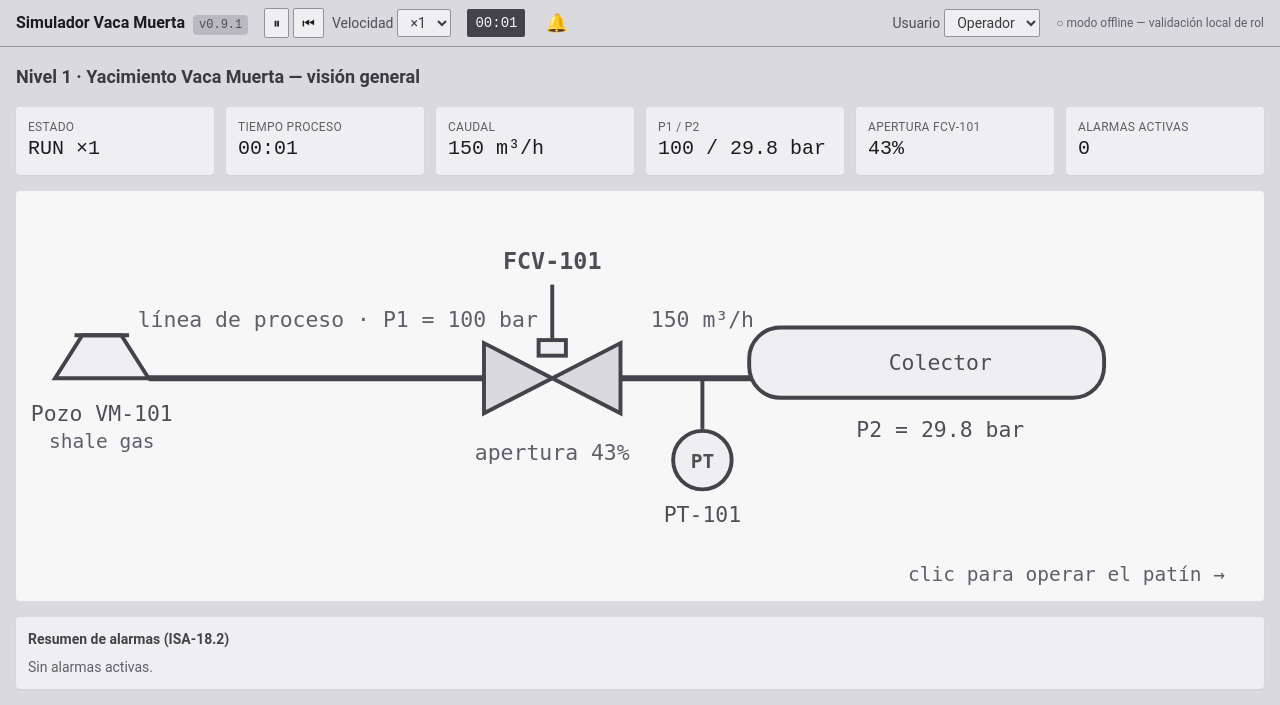
Test case: Mejora 1 — esquema de planta en el Nivel 1 (corrección v0.9.0) › el esquema es clickeable y navega al Nivel 2 (mismo recorrido que la tarjeta)
Click the button with test id "plant-schematic".
click(640, 396)  # box [16,191,1264,600]
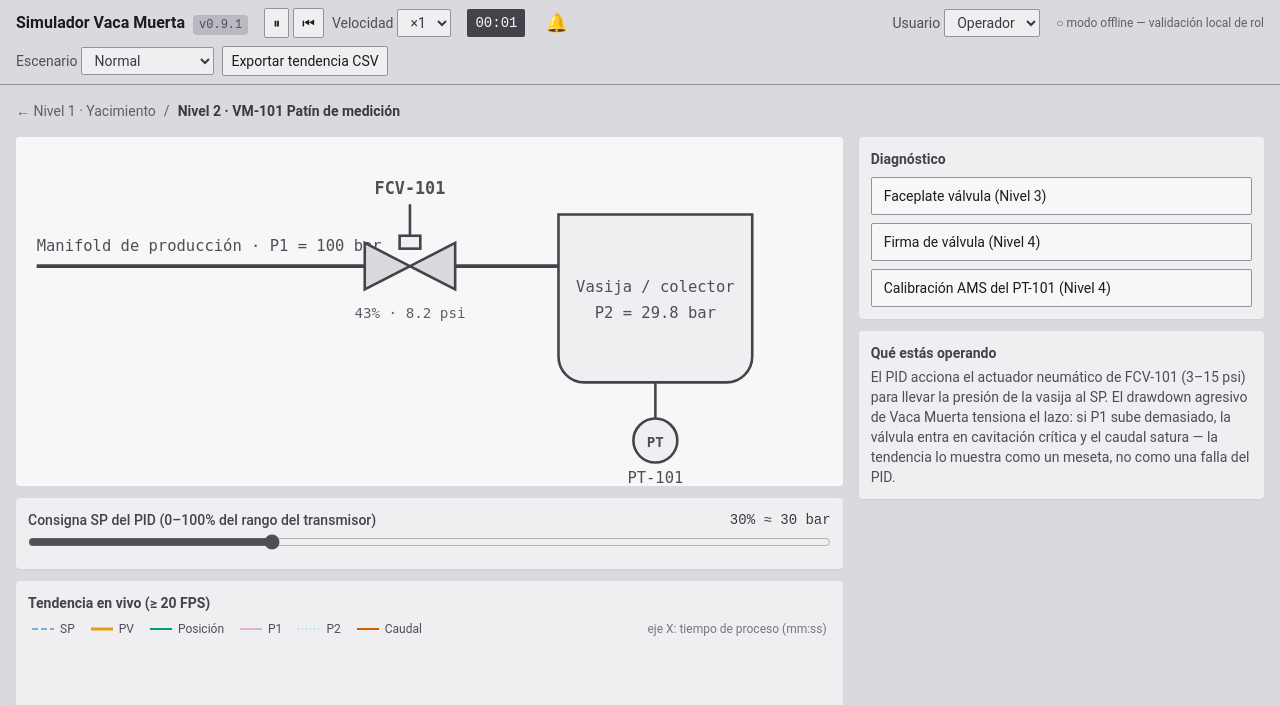
Expected: the picture with test id "pid-diagram" is shown, [16,137,843,486]
